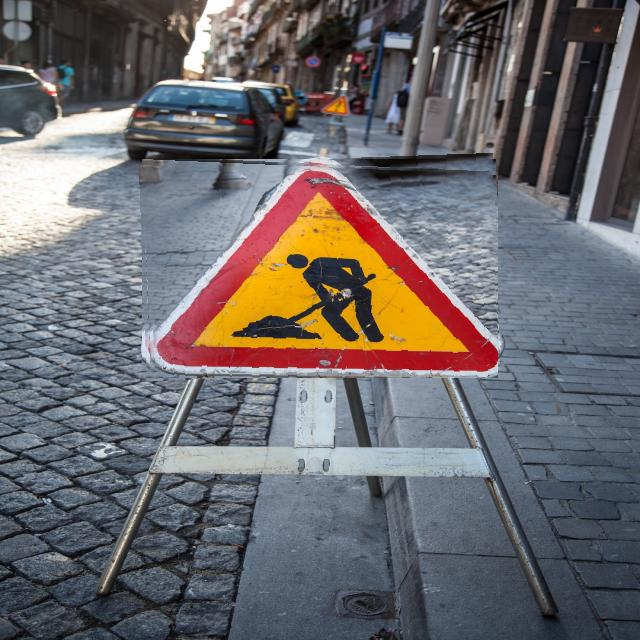roadwork: (141, 156, 498, 378)
